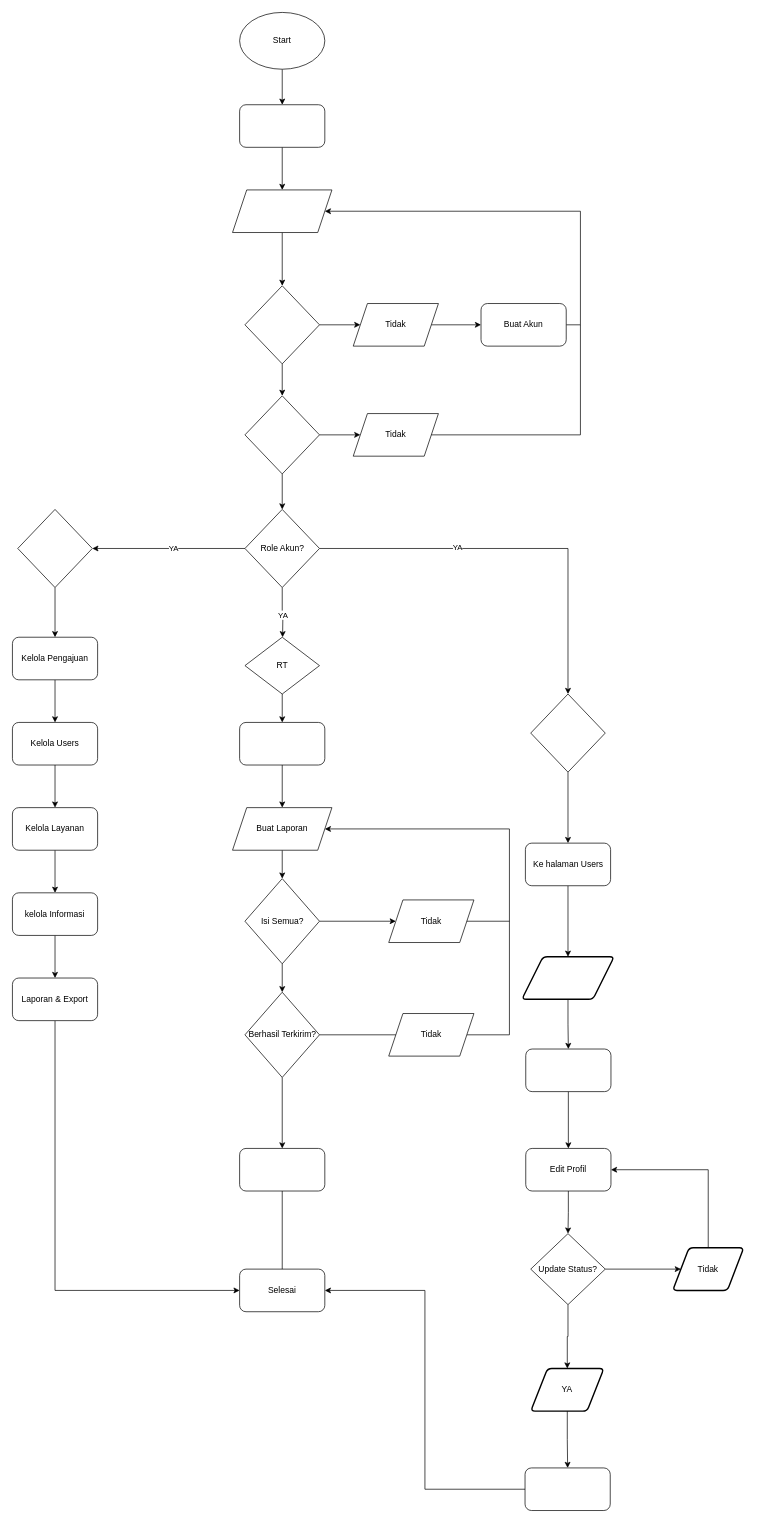
This 757x1523 diagram has some shape labels left out. Here are the shapes that lost their labels. From the top down, the centre of each, then its label:
the point at 282,125: Login
the point at 282,211: Masukkan Email & Password
the point at 282,324: Apakah Email ada?
the point at 282,434: Apakah Email & Password ada?
the point at 54,548: Halaman Admin
the point at 282,743: Halaman RT
the point at 567,732: Users?
the point at 568,978: Ajukan Surat
the point at 568,1070: Riwayat Pengajuan
the point at 282,1169: Terkirim
the point at 567,1489: Update Status
